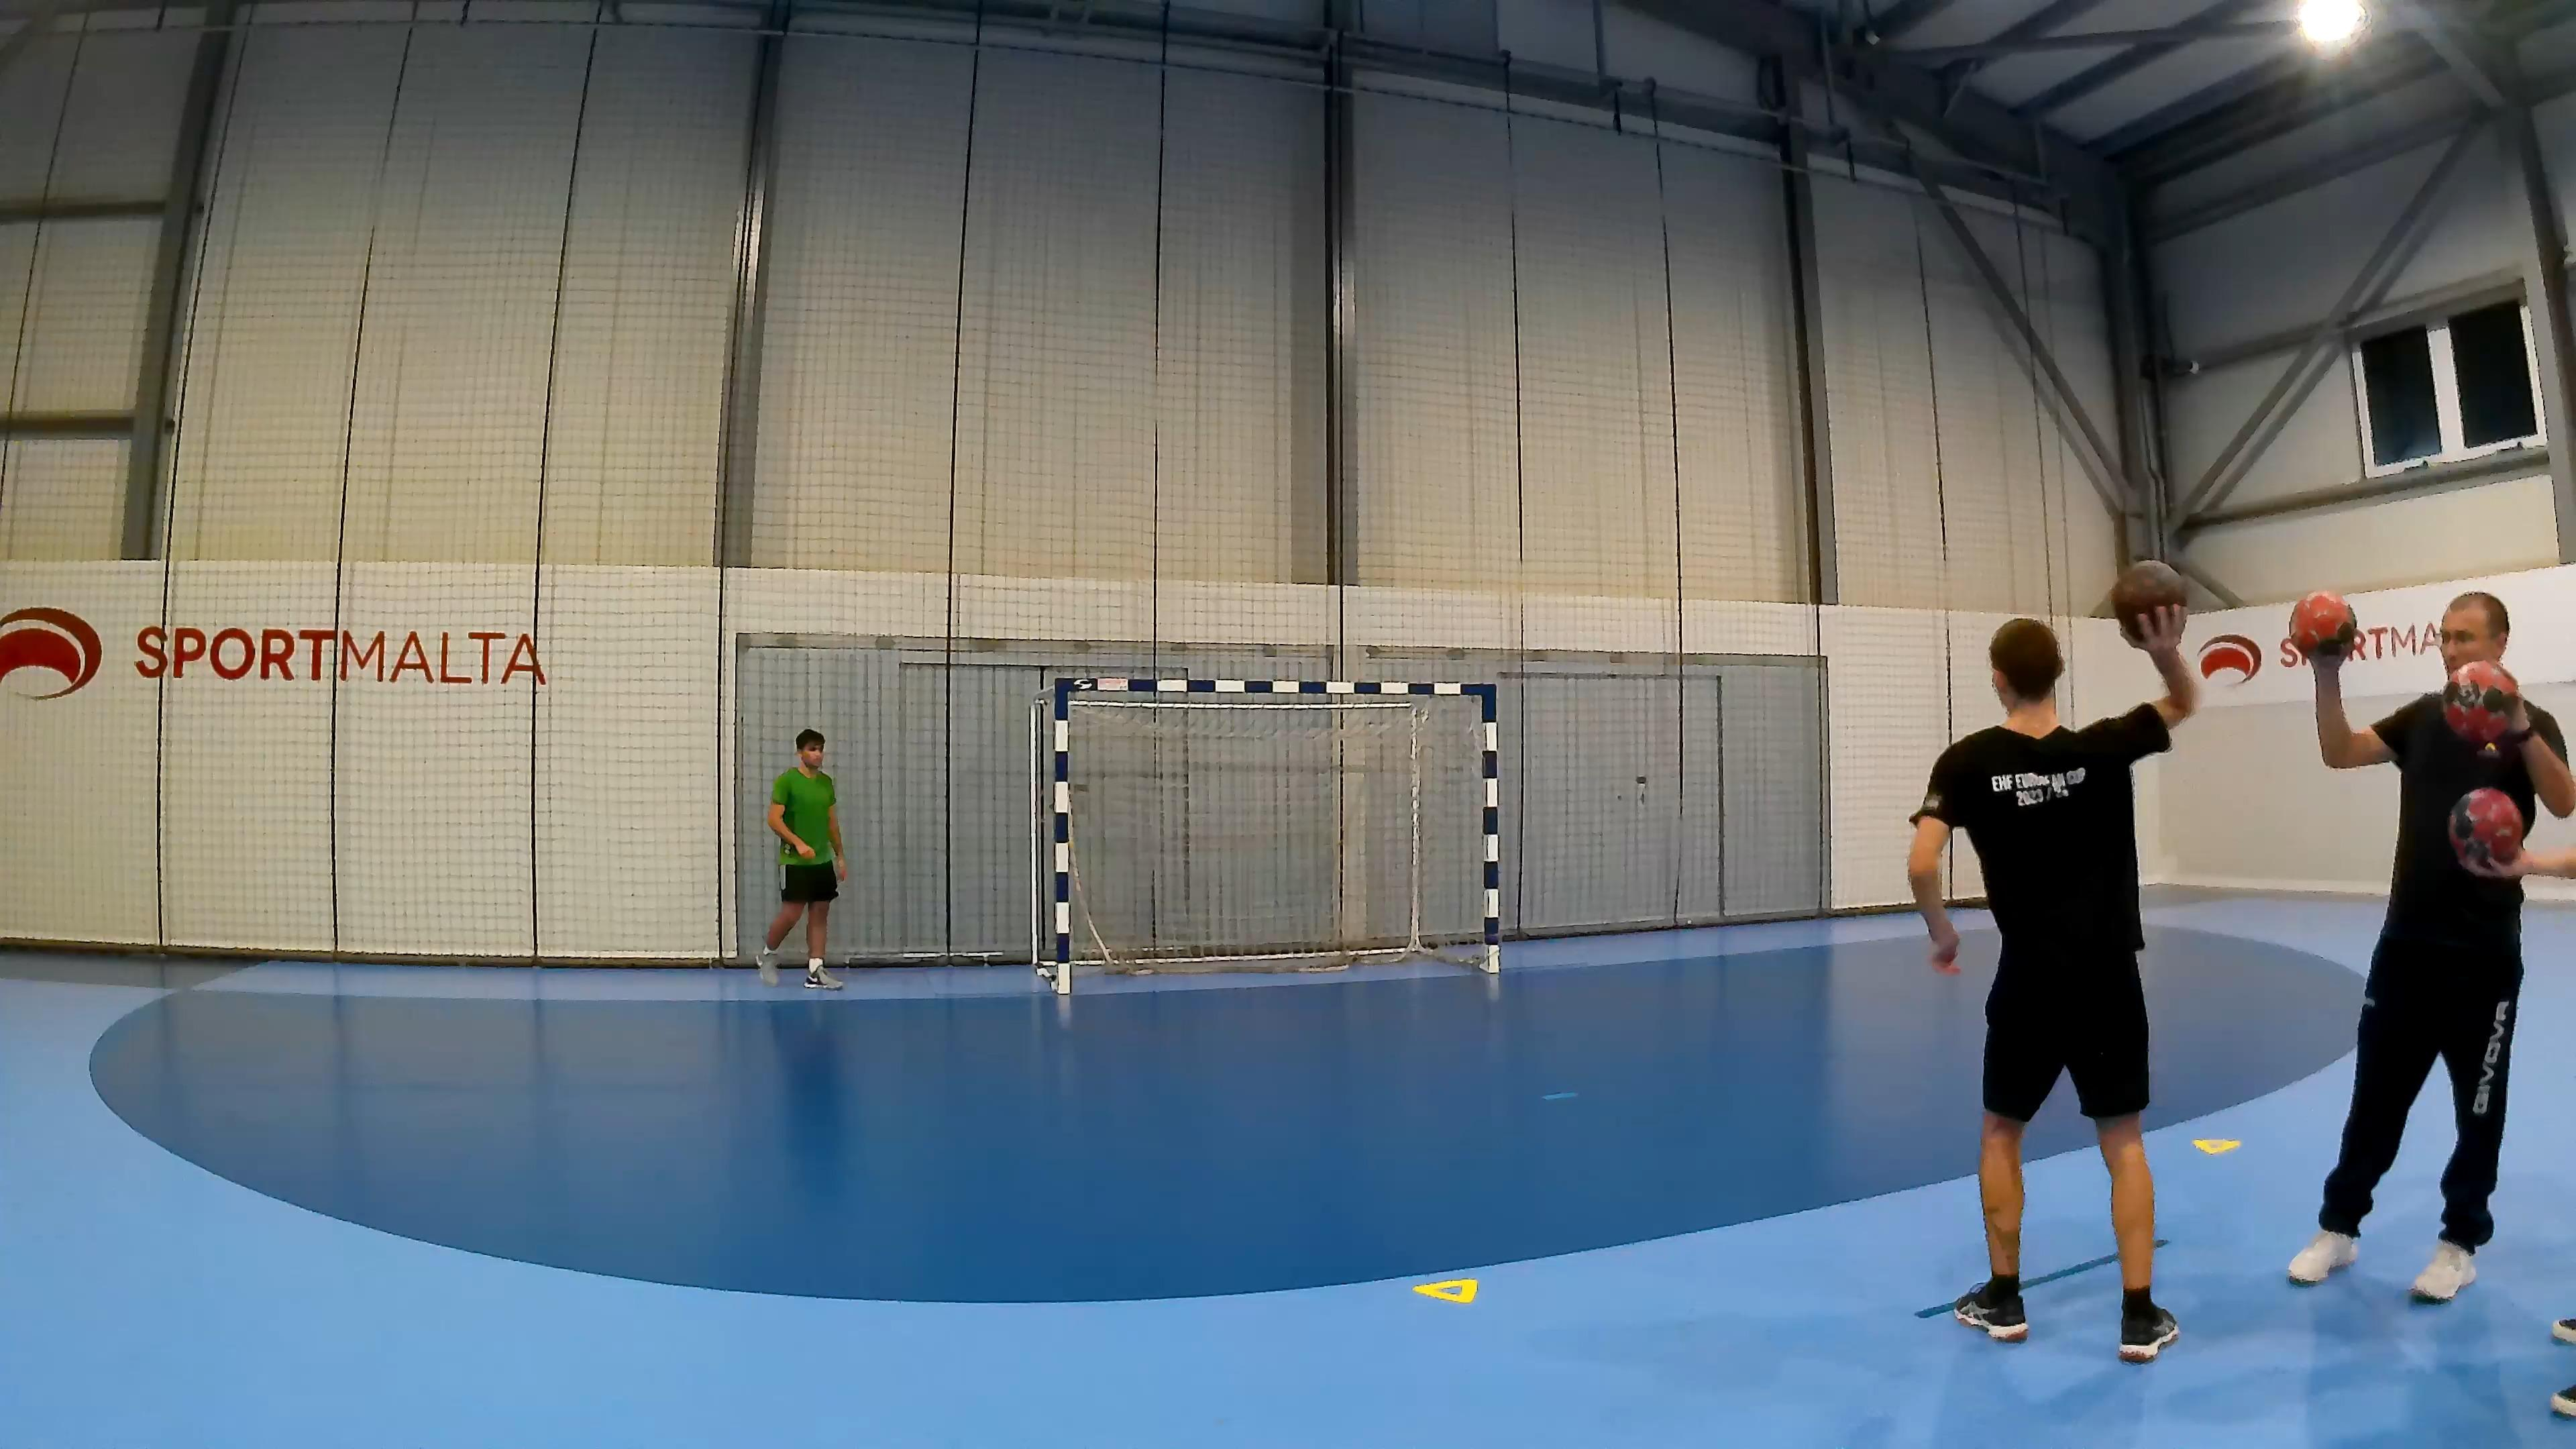handball: (2442, 658, 2518, 747), (2109, 559, 2187, 644), (2449, 786, 2523, 870), (2288, 589, 2357, 658)
